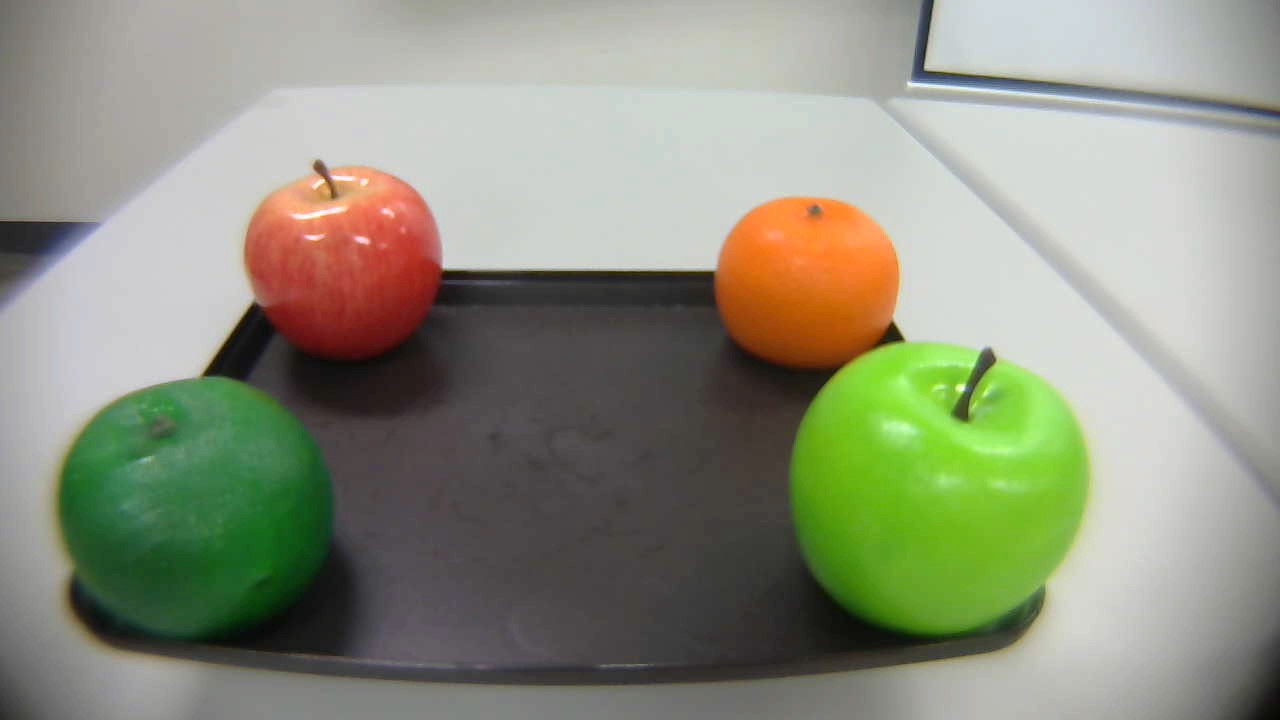green apple: (787, 335, 1092, 634)
green orange: (30, 370, 353, 661)
orange: (696, 188, 915, 390)
red apple: (238, 155, 441, 368)
